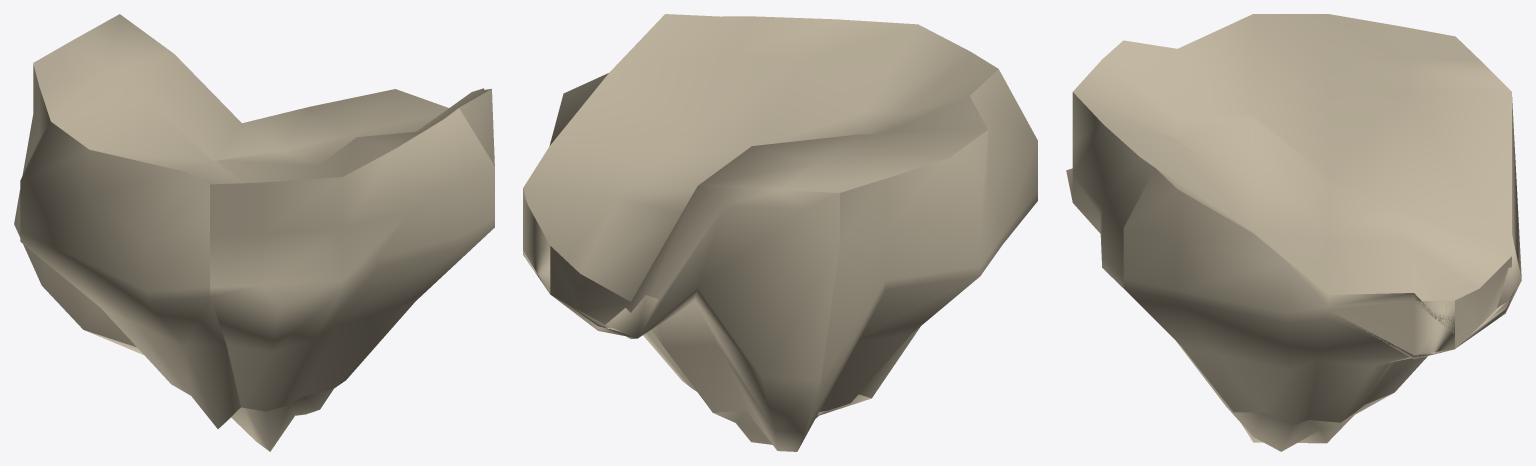
Rendered from валун_земля.FBX.
3 renders of one model, left to right at view 1: azimuth 30°, elevation 25°; view 2: azimuth 150°, elevation 25°; view 3: azimuth 270°, elevation 25°, orthographic.
Parts seen in each view (by area): view 1: Box004; view 2: Box004; view 3: Box004.
Part boxes in pixels (x1=…): Box004: x1=14, y1=14, x2=494, y2=451; Box004: x1=523, y1=14, x2=1037, y2=451; Box004: x1=1066, y1=14, x2=1521, y2=451.
Bounding box in the file's own units: 94.92 × 71.1 × 85.95.
